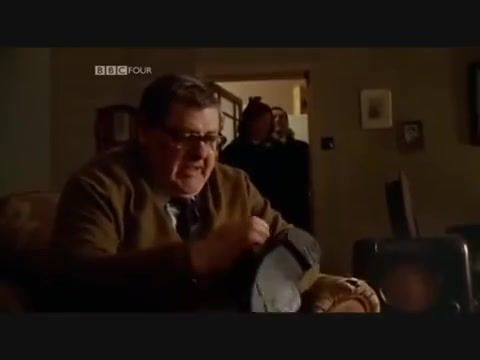Frotter: (192, 215, 271, 262)
